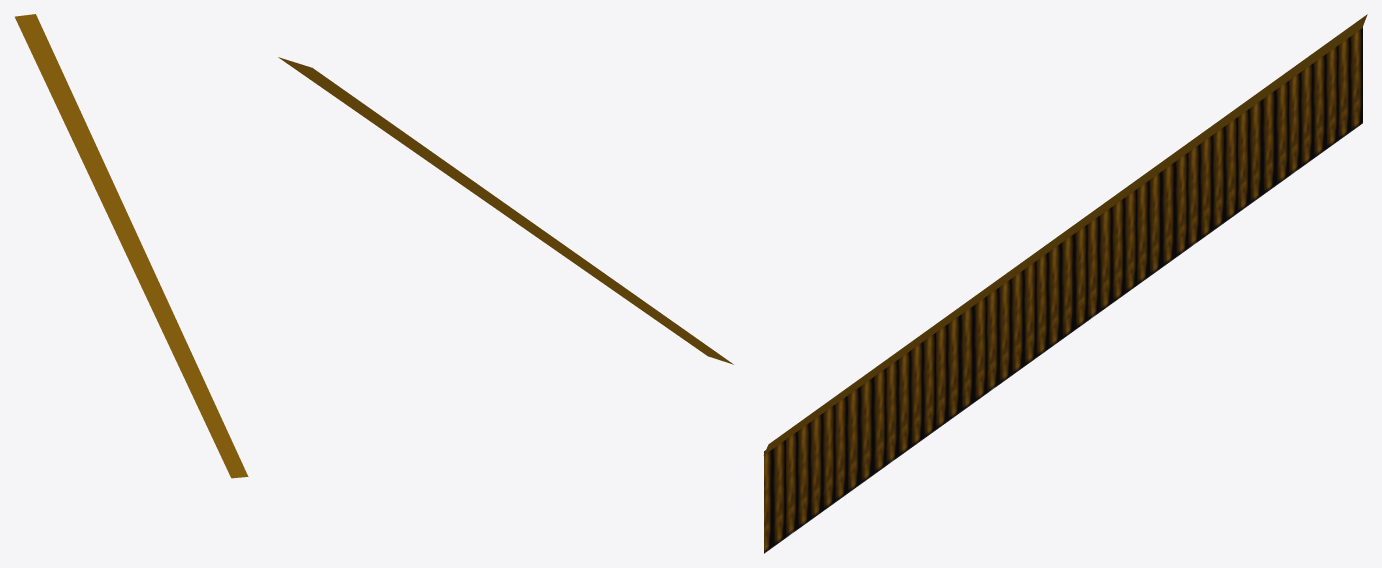
Rendered from TTreppeGeländer [Braun]_2124.glb.
The picture shows the model from 3 angles, left to right: view 1: azimuth 30°, elevation 25°; view 2: azimuth 150°, elevation 25°; view 3: azimuth 270°, elevation 25°; orthographic projection. The views are drawn at different scales.
Parts seen in each view (by area): view 1: pPlaneShape6; view 2: pPlaneShape6; view 3: pPlaneShape1, pPlaneShape6.
Part boxes in pixels (x1,y1,x2,y2): pPlaneShape6: (15, 14, 248, 478); pPlaneShape6: (278, 57, 733, 364); pPlaneShape1: (764, 27, 1362, 553); pPlaneShape6: (763, 14, 1367, 455).
Size of the model in its own units: 0.0264 by 0.493 by 0.5055.
2 materials, 1 textured.
